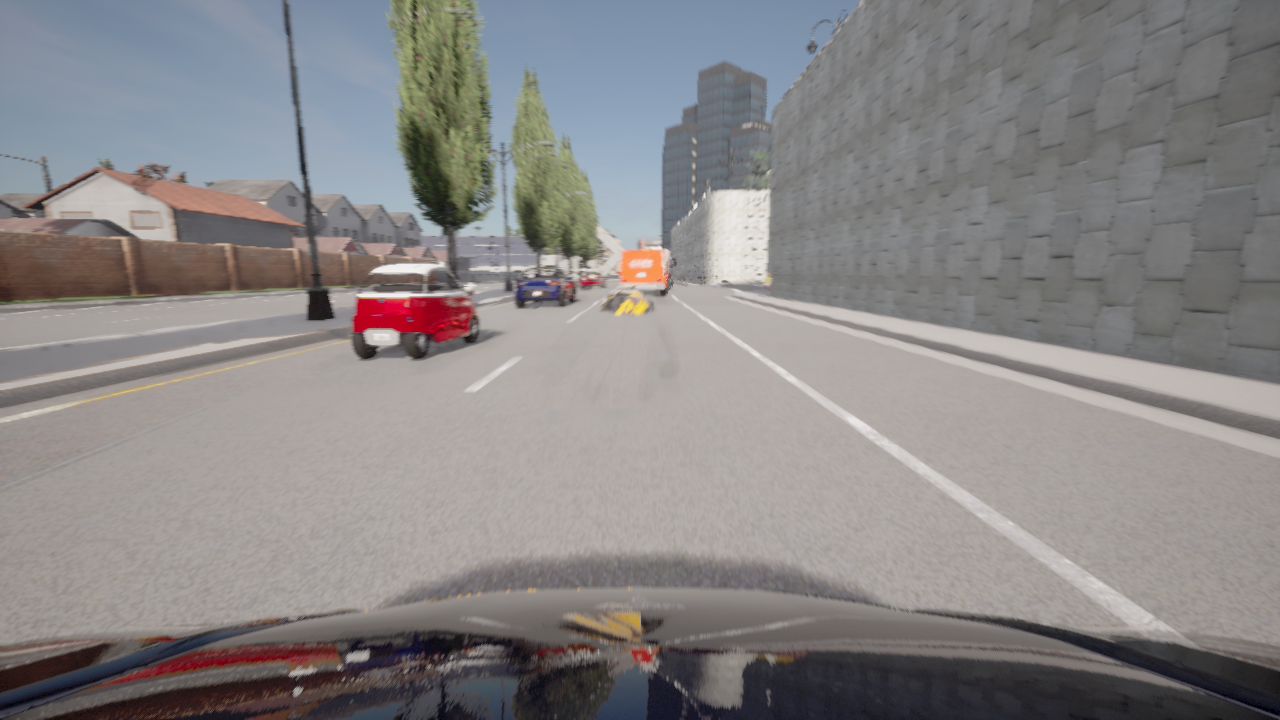cyclist: (0, 588, 1279, 719), (351, 263, 478, 358), (515, 266, 576, 307), (620, 250, 674, 294), (601, 285, 655, 313), (580, 270, 607, 288)
pedestrian: (764, 273, 771, 297)
